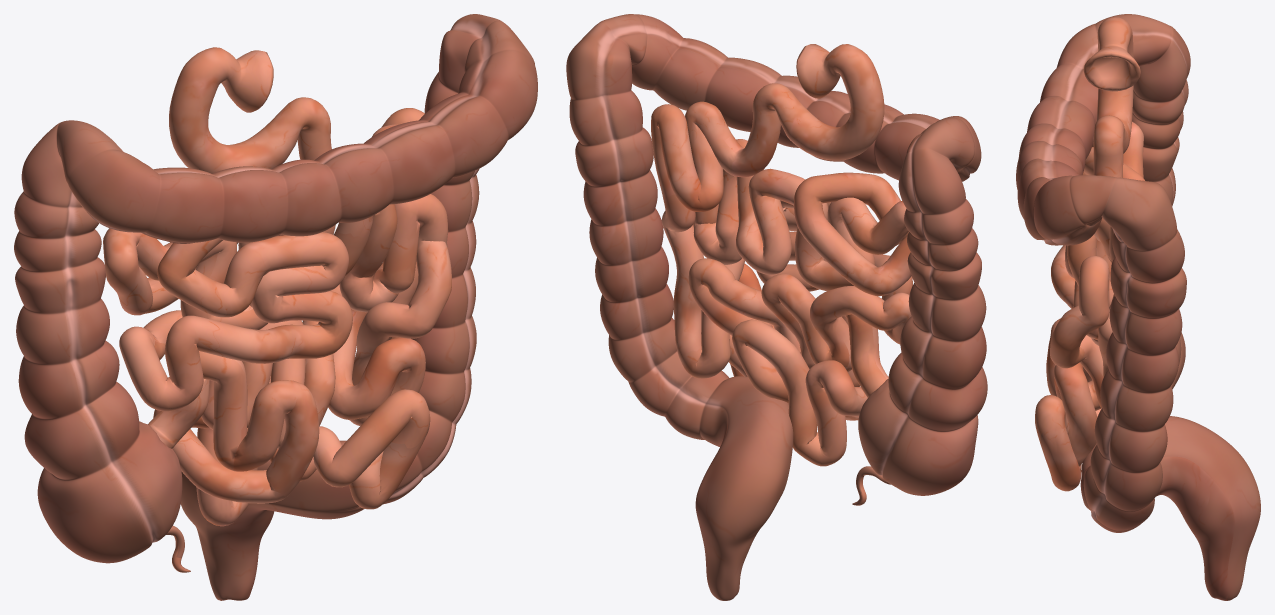
The model's file is intestinev2.glb.
3 renders of one model, left to right at view 1: azimuth 30°, elevation 25°; view 2: azimuth 150°, elevation 25°; view 3: azimuth 270°, elevation 25°, orthographic. The views are drawn at different scales.
Visible parts, largest first — view 1: Tunntarm, Tjocktarm_Default Material_0.001, Tjocktarm; view 2: Tunntarm, Tjocktarm, Tjocktarm_Default Material_0.001; view 3: Tjocktarm, Tunntarm, Tjocktarm_Default Material_0.001.
Part boxes in pixels (left/top/right/bottom): Tunntarm: left=103, top=47, right=451, bottom=526; Tjocktarm_Default Material_0.001: left=14, top=21, right=537, bottom=584; Tjocktarm: left=21, top=14, right=502, bottom=600; Tunntarm: left=651, top=44, right=912, bottom=466; Tjocktarm: left=566, top=21, right=970, bottom=600; Tjocktarm_Default Material_0.001: left=569, top=14, right=987, bottom=585; Tjocktarm: left=1044, top=20, right=1260, bottom=600; Tunntarm: left=1035, top=17, right=1144, bottom=491; Tjocktarm_Default Material_0.001: left=1016, top=14, right=1251, bottom=589.
Size of the model in its own units: 1.72 by 2.09 by 0.8553.
2 materials, 2 textured.
